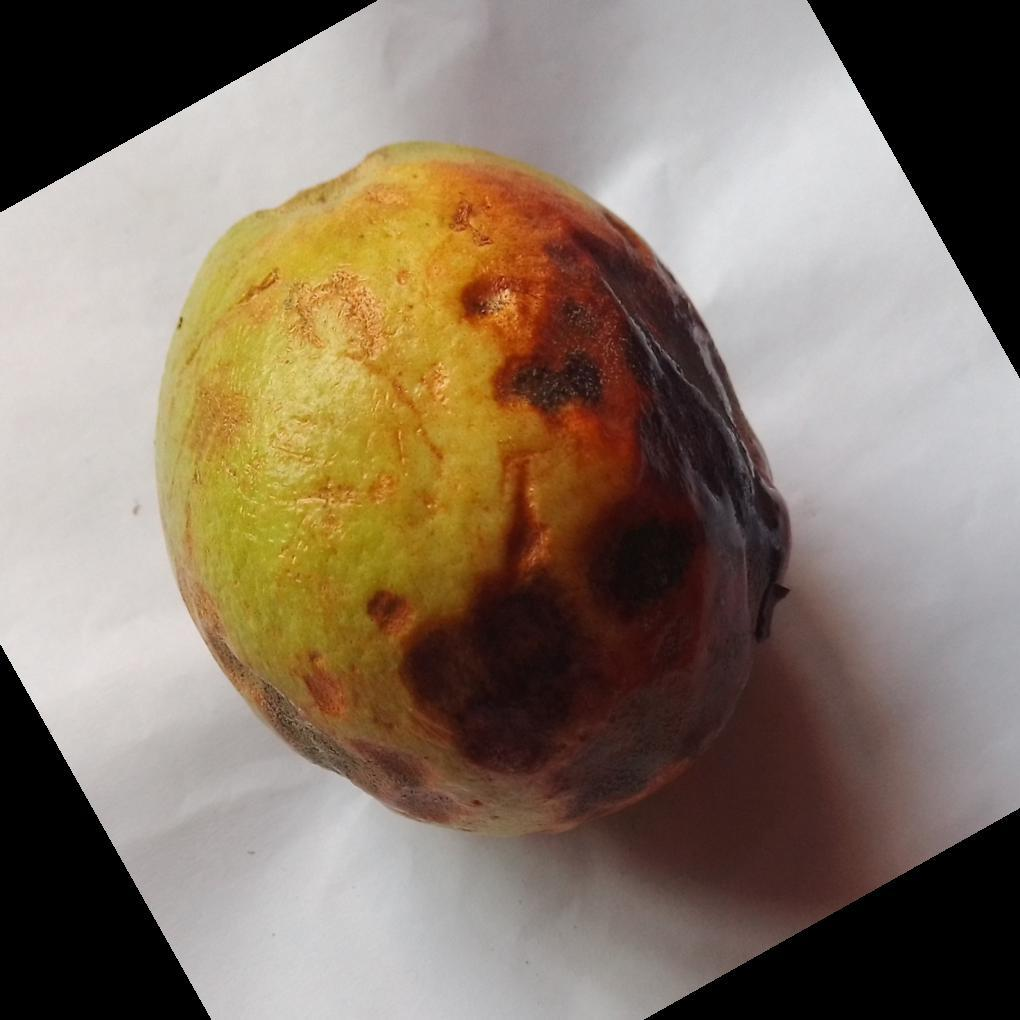FreshOrange: (150, 143, 791, 842)
